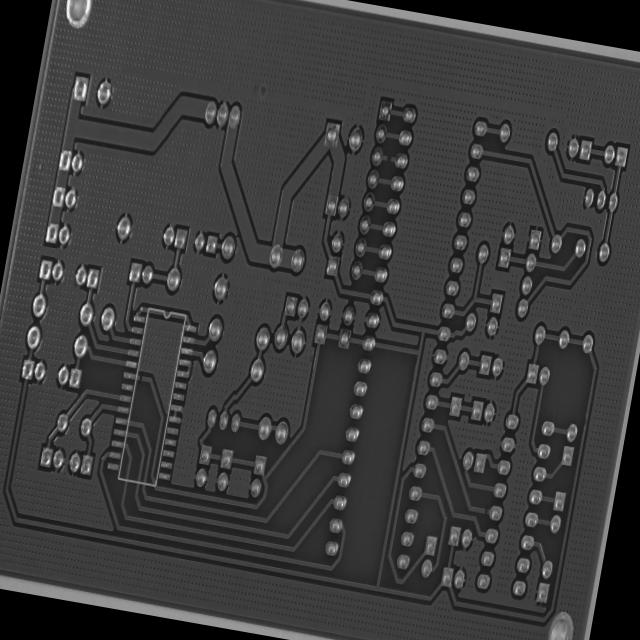open_circuit: (383, 151, 393, 165), (136, 372, 144, 384), (482, 504, 489, 517)
